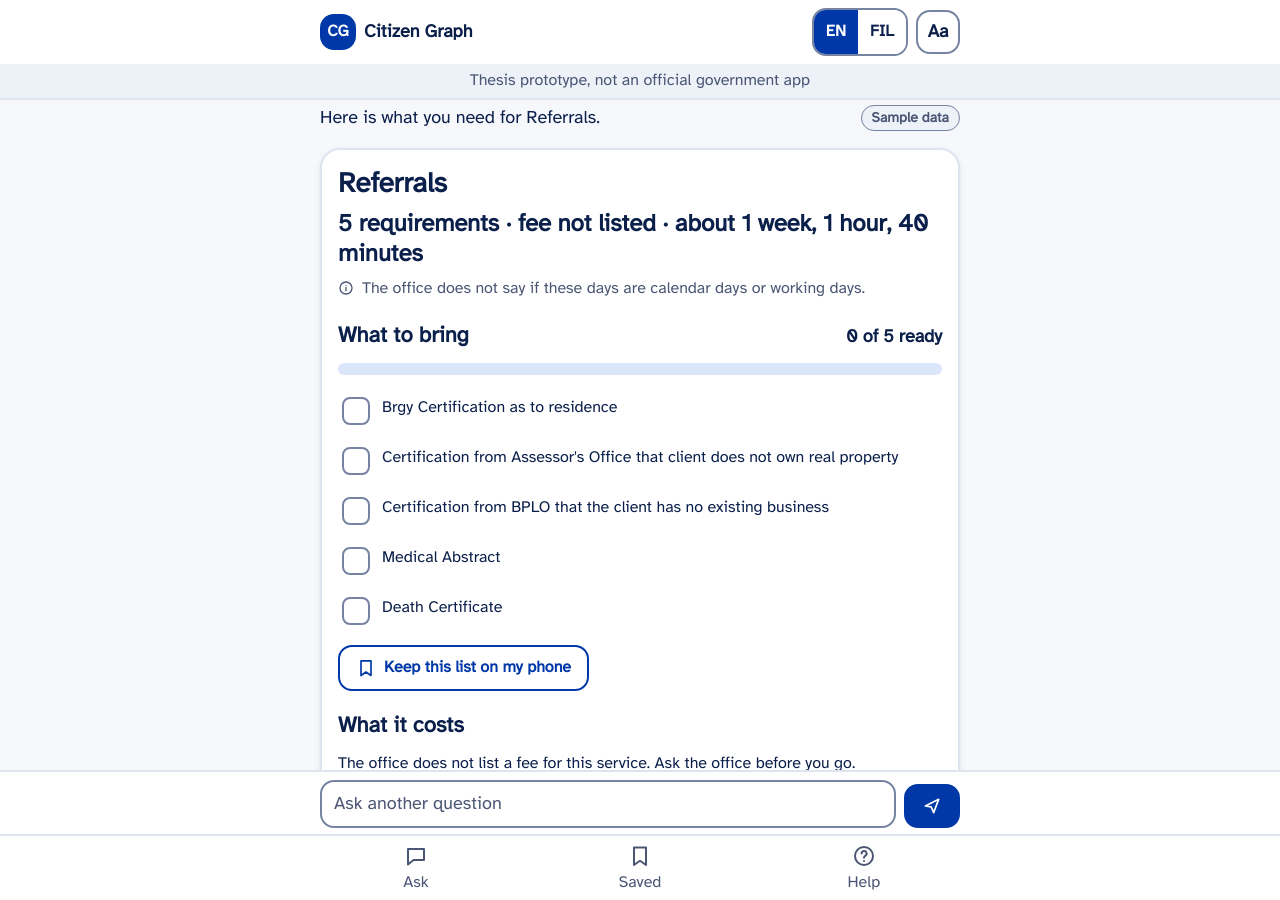
Scenario: answer card › ticks are saved on the device and progress updates
(page scrolled)
Click the checkbox labelled "Medical Abstract". click: point(421, 561)
box: [342,547,500,575]
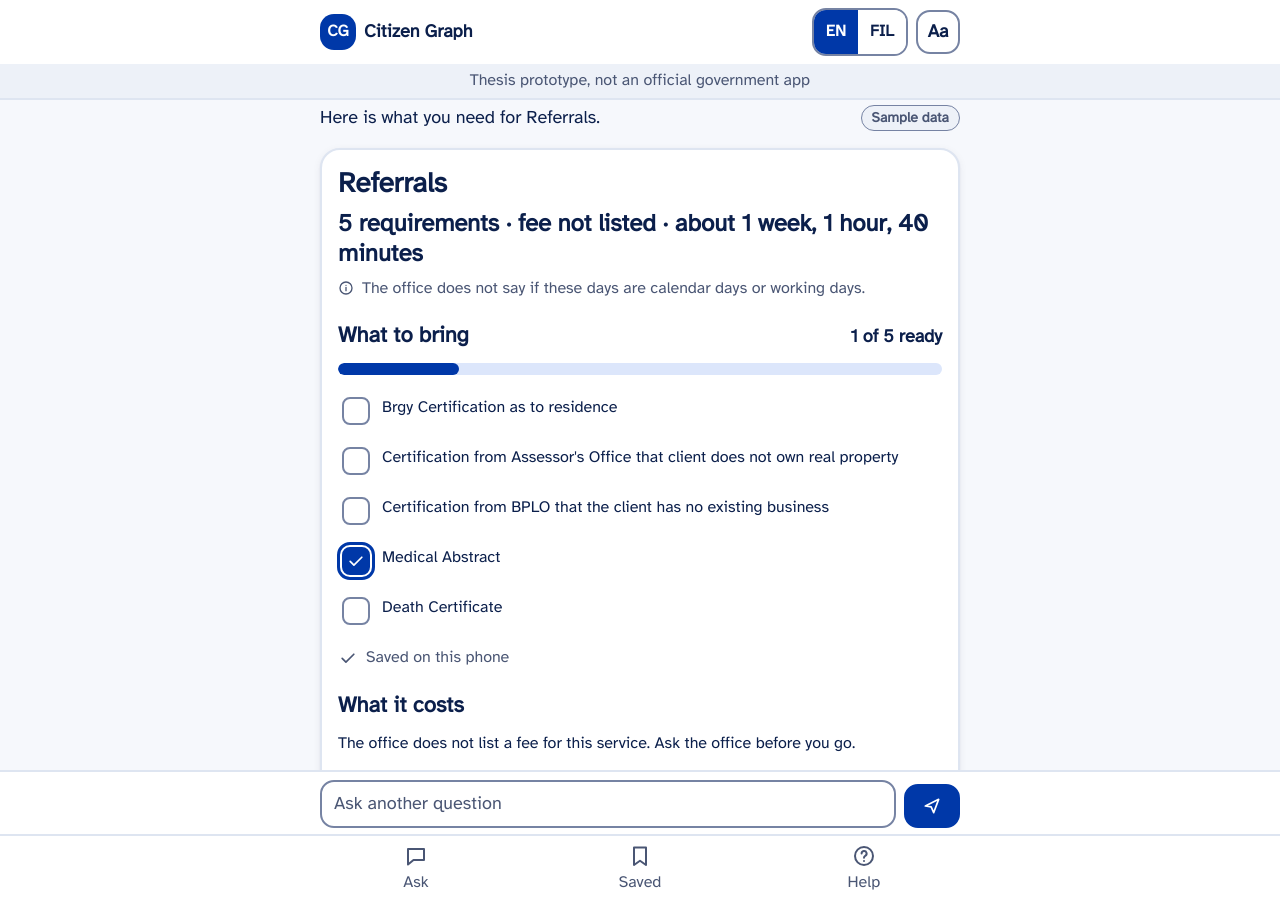
Expected: the text "1 of 5 ready" is shown, [850,323,942,351]
